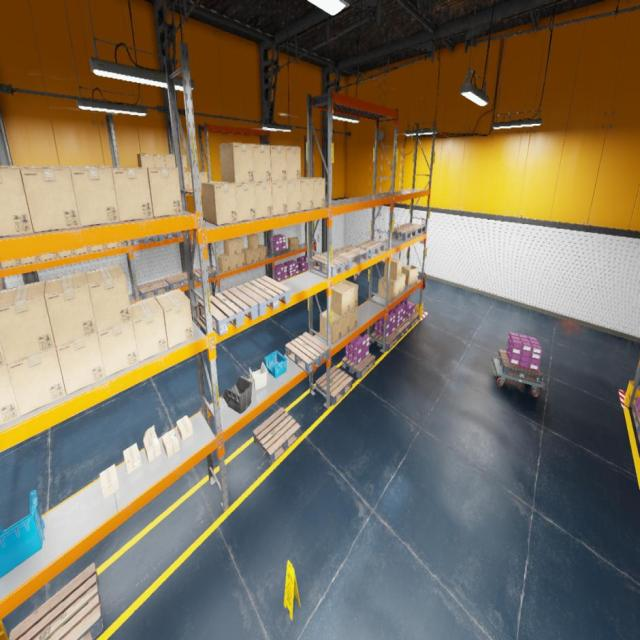box: (0, 280, 55, 364), (7, 346, 66, 416), (44, 272, 98, 346), (20, 168, 80, 233), (85, 265, 132, 332), (56, 332, 105, 395), (69, 168, 120, 227), (130, 296, 168, 362), (97, 320, 139, 377), (155, 288, 194, 348), (0, 168, 33, 237), (112, 167, 153, 222), (143, 168, 182, 217), (202, 181, 238, 225), (219, 142, 255, 183), (0, 364, 20, 425), (236, 182, 256, 222), (319, 310, 342, 344), (252, 144, 272, 182), (301, 178, 325, 209), (143, 425, 161, 462), (100, 464, 119, 499), (331, 283, 351, 315), (255, 182, 272, 219), (270, 145, 287, 181), (338, 280, 358, 310), (123, 443, 142, 474), (272, 180, 288, 216), (162, 429, 180, 458), (287, 146, 301, 180), (287, 180, 301, 212), (176, 415, 193, 441), (378, 276, 396, 300), (384, 257, 402, 280), (301, 178, 313, 210), (385, 276, 401, 297), (402, 265, 418, 285), (223, 238, 237, 256), (231, 237, 244, 254), (137, 154, 154, 167), (218, 254, 230, 272), (342, 311, 350, 337), (350, 306, 358, 331), (0, 259, 22, 268), (247, 234, 260, 249), (152, 154, 166, 167), (21, 256, 42, 264), (288, 236, 299, 251), (249, 248, 260, 263), (41, 252, 59, 261), (198, 172, 208, 188), (164, 154, 176, 167), (0, 341, 6, 366), (244, 248, 253, 264), (75, 246, 92, 254), (59, 250, 76, 258), (400, 272, 406, 294), (230, 254, 238, 270), (91, 244, 107, 252), (237, 252, 244, 268), (260, 245, 267, 260), (106, 242, 121, 248), (188, 172, 193, 190), (184, 172, 189, 190), (182, 155, 187, 172)
pallets: (9, 562, 103, 640), (198, 287, 258, 336), (253, 407, 300, 464), (236, 276, 291, 316), (285, 332, 329, 374), (498, 350, 542, 383), (316, 366, 353, 404), (313, 252, 352, 276), (343, 352, 375, 378), (332, 244, 369, 266), (138, 279, 170, 299), (370, 330, 400, 351), (355, 240, 385, 258), (387, 226, 417, 241), (164, 272, 188, 290), (193, 266, 216, 283), (401, 223, 426, 236), (393, 320, 410, 338), (131, 236, 158, 246), (405, 311, 420, 328), (632, 402, 640, 433), (157, 232, 181, 241), (198, 304, 215, 314), (268, 248, 288, 256), (287, 273, 301, 278), (272, 278, 289, 282), (638, 427, 640, 444), (298, 270, 308, 272)
